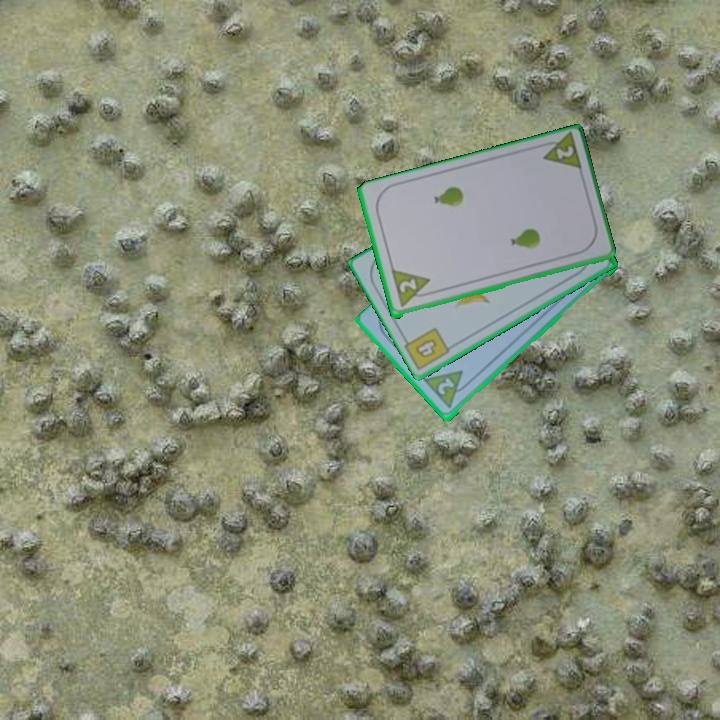2p: (434, 374, 457, 398), (552, 142, 577, 163), (395, 276, 419, 296)
4b: (411, 335, 440, 362)
